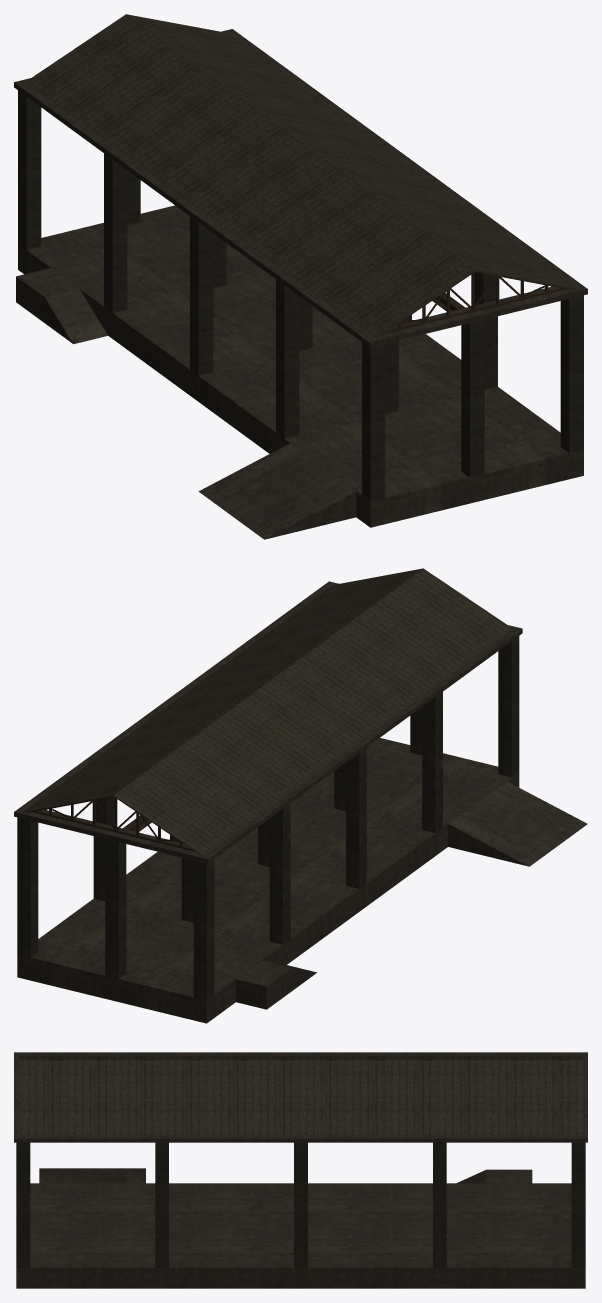
File: warehouse_mx_4_1.glb
3 renders of one model, top to bottom at view 1: azimuth 30°, elevation 25°; view 2: azimuth 150°, elevation 25°; view 3: azimuth 270°, elevation 25°, orthographic. The views are drawn at different scales.
Visible parts, largest first — view 1: warehouse_mx_4_1; view 2: warehouse_mx_4_1; view 3: warehouse_mx_4_1.
Boxes of the visible parts, x1,y1,x2,y2 form: warehouse_mx_4_1: [14, 14, 587, 539]; warehouse_mx_4_1: [14, 568, 587, 1023]; warehouse_mx_4_1: [14, 1052, 587, 1288].
Size of the model in its own units: 12.4 by 8.87 by 24.8.
Materials: 4 (4 with a texture image).
